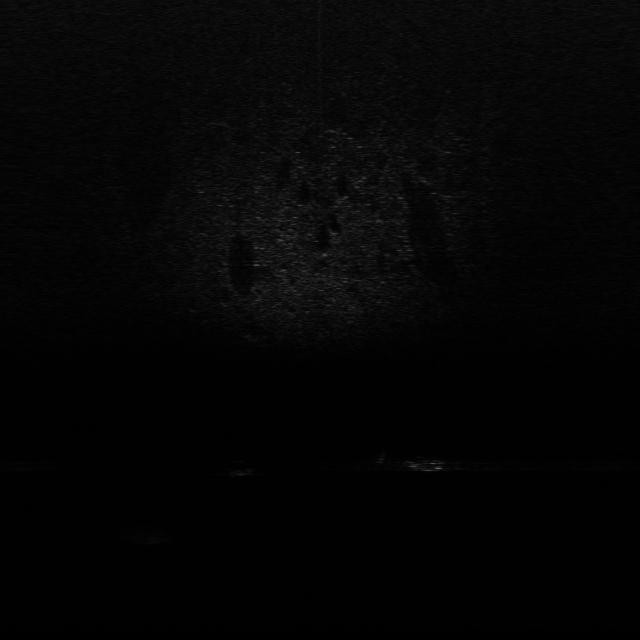ball: (227, 456, 256, 481)
circle cage: (130, 517, 176, 548)
human body: (362, 449, 473, 476)
